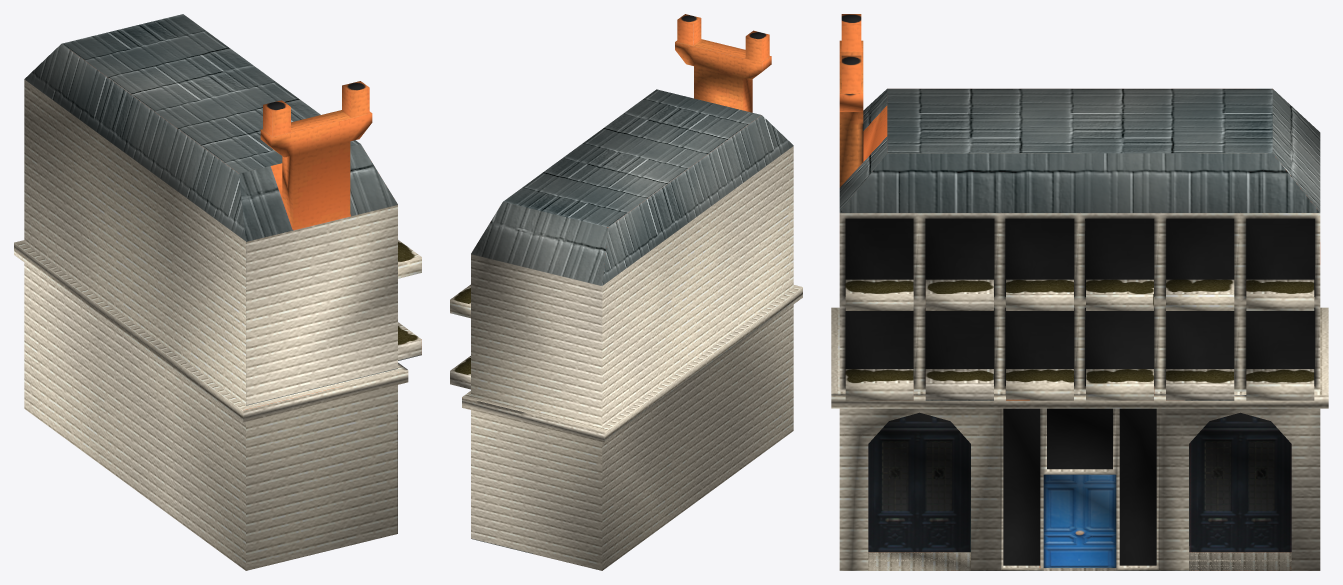
The model's file is building_05.obj.
3 renders of one model, left to right at view 1: azimuth 30°, elevation 25°; view 2: azimuth 150°, elevation 25°; view 3: azimuth 270°, elevation 25°, orthographic. The views are drawn at different scales.
Parts seen in each view (by area): view 1: Cube3_copy8; view 2: Cube3_copy8; view 3: Cube3_copy8.
Boxes of the visible parts, x1,y1,x2,y2 form: Cube3_copy8: (14,14,421,570); Cube3_copy8: (450,14,802,570); Cube3_copy8: (831,14,1328,570).
Bounding box in the file's own units: 334 × 779 × 715.
Materials: 1 (1 with a texture image).
